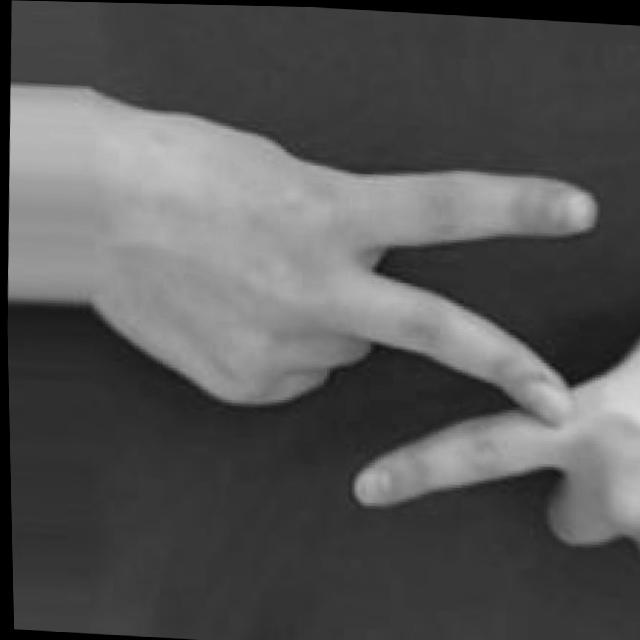Z: (2, 81, 640, 564)
